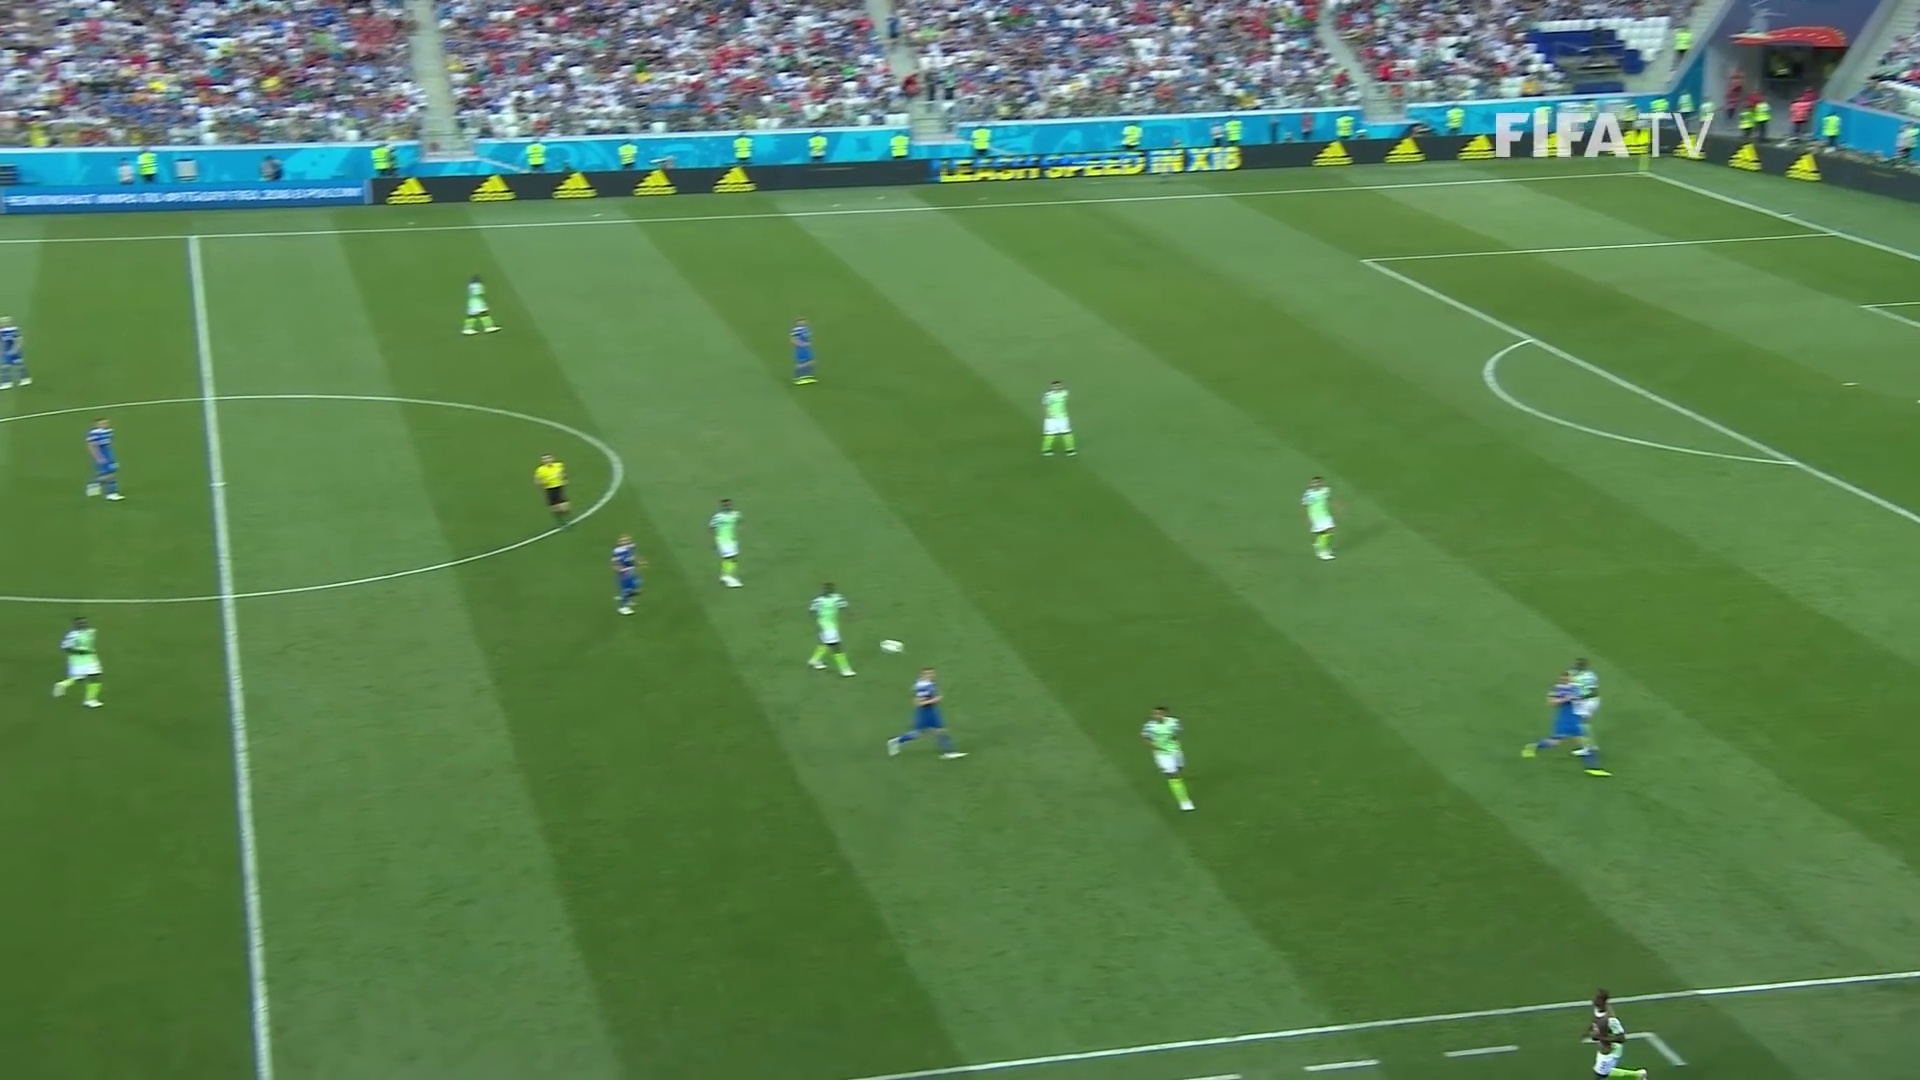ball: (879, 637, 904, 655)
person: (1525, 671, 1610, 779), (886, 671, 961, 761), (1142, 708, 1197, 808), (51, 618, 106, 708), (806, 583, 853, 676), (83, 416, 123, 502), (1571, 657, 1605, 757), (711, 497, 744, 588), (1302, 478, 1339, 558), (1039, 381, 1077, 455), (611, 534, 645, 615), (1, 312, 34, 393), (465, 271, 497, 335), (790, 315, 817, 384)
